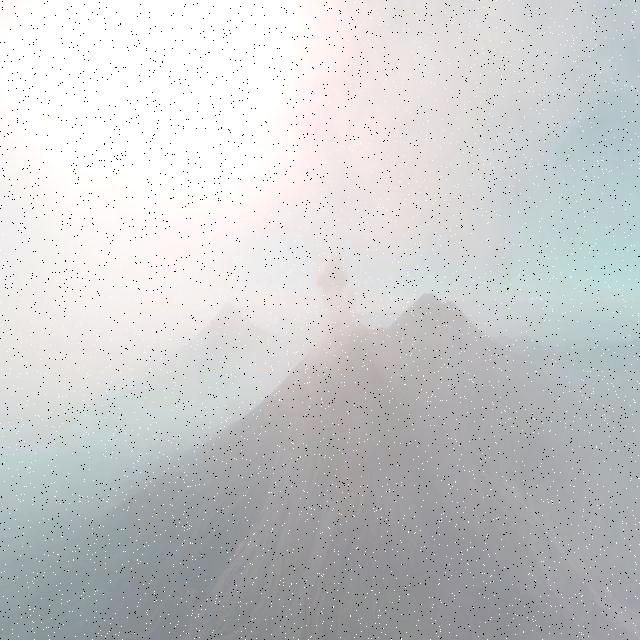Plume: (0, 0, 640, 453), (312, 244, 352, 332)
